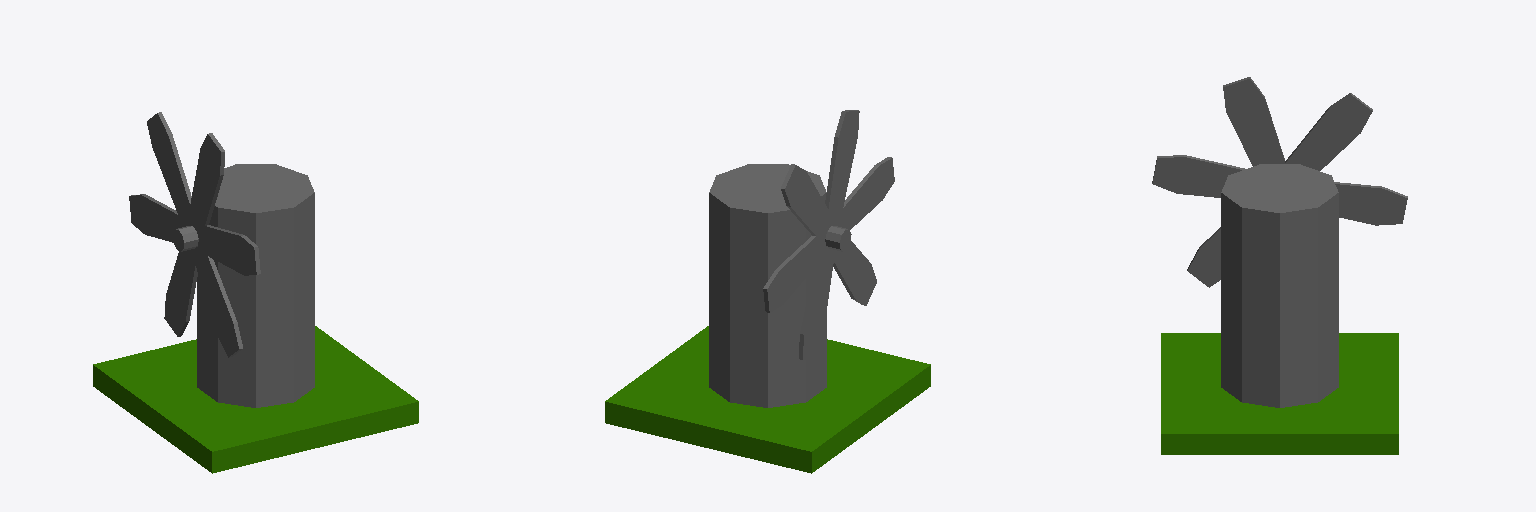
The model's file is Farm5.obj.
The picture shows the model from 3 angles: view 1: azimuth 30°, elevation 25°; view 2: azimuth 150°, elevation 25°; view 3: azimuth 270°, elevation 25°; orthographic projection.
Parts seen in each view (by area): view 1: Tilebase113, Cylinder051, Box729, Box731, Box732, Box727, Box728, Box730, Cylinder050; view 2: Tilebase113, Cylinder051, Box731, Box728, Box730, Box732, Box727, Box729, Cylinder050; view 3: Cylinder051, Tilebase113, Box731, Box732, Box727, Box730, Box729.
Part boxes in pixels (bbox=[...]): Tilebase113: bbox=[93, 326, 418, 473]; Cylinder051: bbox=[197, 164, 314, 407]; Box729: bbox=[191, 239, 242, 357]; Box731: bbox=[187, 133, 224, 238]; Box732: bbox=[147, 112, 194, 226]; Box727: bbox=[197, 225, 260, 275]; Box728: bbox=[164, 248, 197, 336]; Box730: bbox=[129, 194, 182, 242]; Cylinder050: bbox=[172, 226, 198, 251]; Tilebase113: bbox=[605, 326, 930, 473]; Cylinder051: bbox=[709, 164, 826, 407]; Box731: bbox=[825, 110, 859, 227]; Box728: bbox=[799, 244, 834, 359]; Box730: bbox=[763, 228, 826, 312]; Box732: bbox=[781, 164, 833, 242]; Box727: bbox=[839, 157, 894, 229]; Box729: bbox=[830, 241, 876, 305]; Cylinder050: bbox=[811, 226, 851, 251]; Cylinder051: bbox=[1221, 164, 1338, 407]; Tilebase113: bbox=[1161, 333, 1398, 454]; Box731: bbox=[1223, 77, 1285, 166]; Box732: bbox=[1285, 93, 1372, 170]; Box727: bbox=[1152, 155, 1244, 197]; Box730: bbox=[1335, 182, 1407, 225]; Box729: bbox=[1187, 227, 1220, 287].
Bounding box in the file's own units: 10 × 13.73 × 10.69.